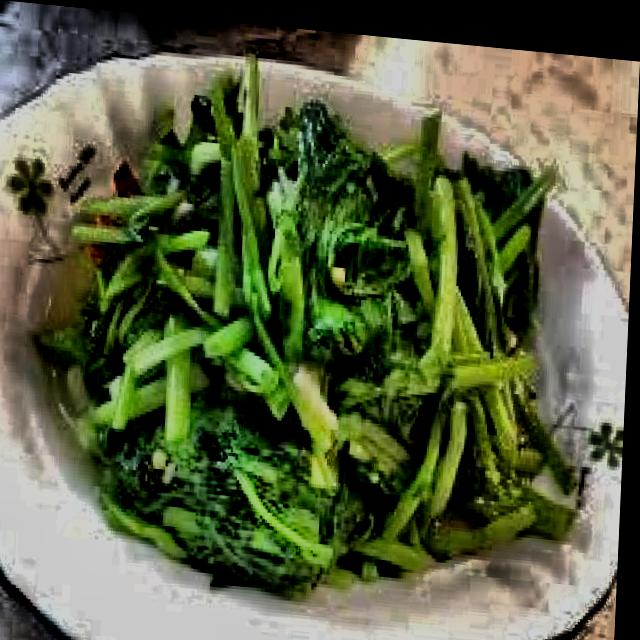Food: (97, 141, 500, 523)
